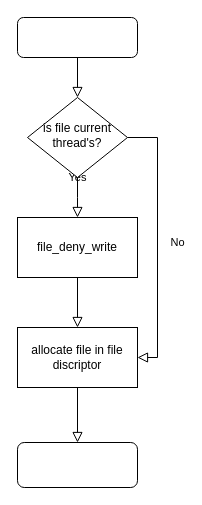
The diagram is 202 pixels wide and 505 high, and some of its shapes have lost their labels. Each missing label, with the centre of its shape:
"open() (syscall)" belongs at point 77,37.
"return file descriptor number" belongs at point 77,465.
